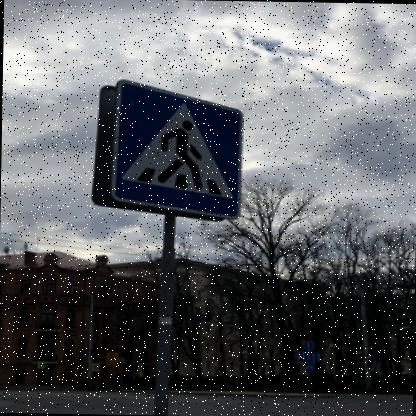crosswalk: (108, 78, 242, 219)
